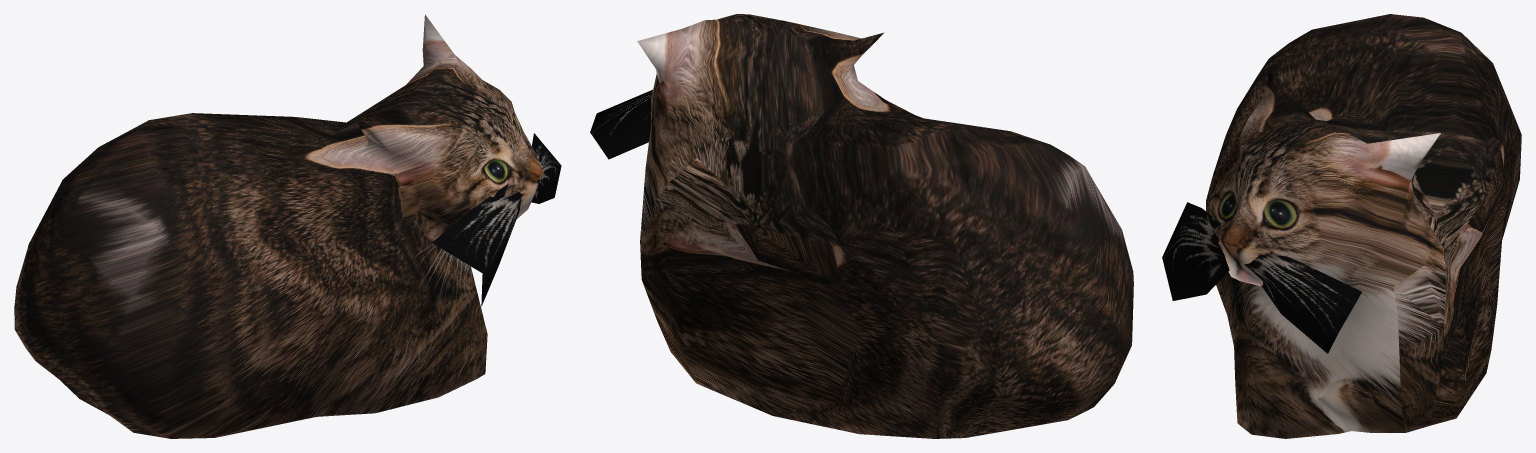
File: orange.glb
The picture shows the model from 3 angles, left to right: view 1: azimuth 30°, elevation 25°; view 2: azimuth 150°, elevation 25°; view 3: azimuth 270°, elevation 25°; orthographic projection. The views are drawn at different scales.
Visible parts, largest first — view 1: dingus; view 2: dingus; view 3: dingus.
Boxes of the visible parts, left/top/right/bottom form: dingus: left=14, top=14, right=561, bottom=438; dingus: left=590, top=14, right=1133, bottom=438; dingus: left=1162, top=14, right=1521, bottom=438.
Bounding box in the file's own units: 33.23 × 19.21 × 18.75.
2 materials, 2 textured.
